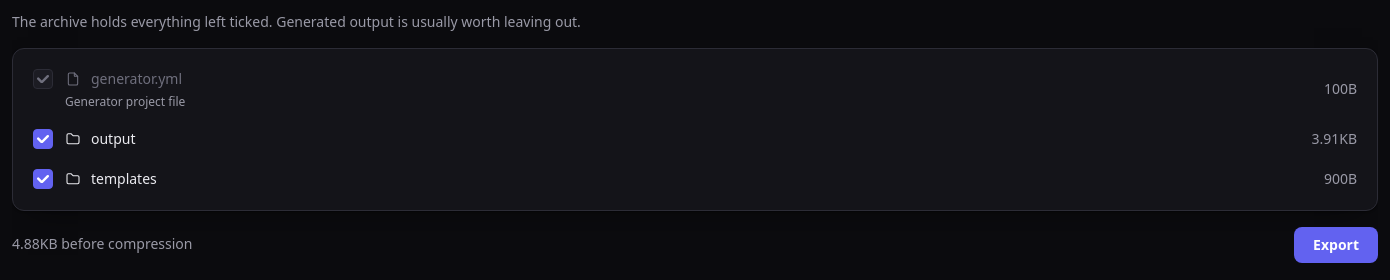
it: ExportProjectModal › drops what is unticked from that size
Click the checkbox labelled "output": (43, 139) [33,129,53,149]
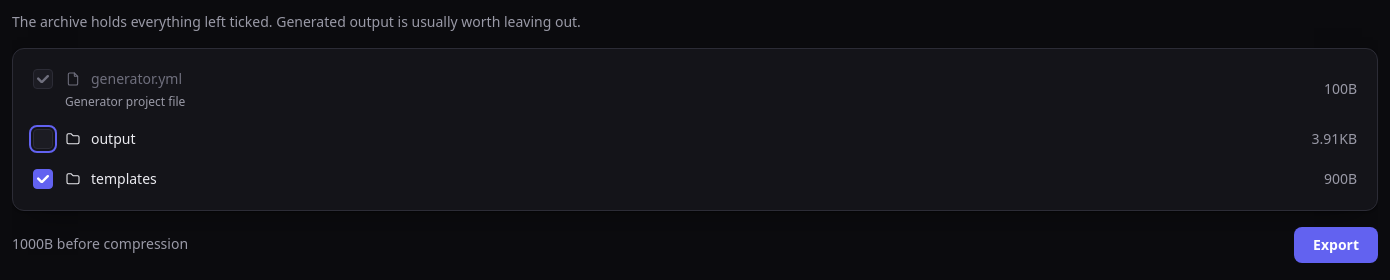
Check: the text "1000B before compression" is shown, box [12,234,188,255]
